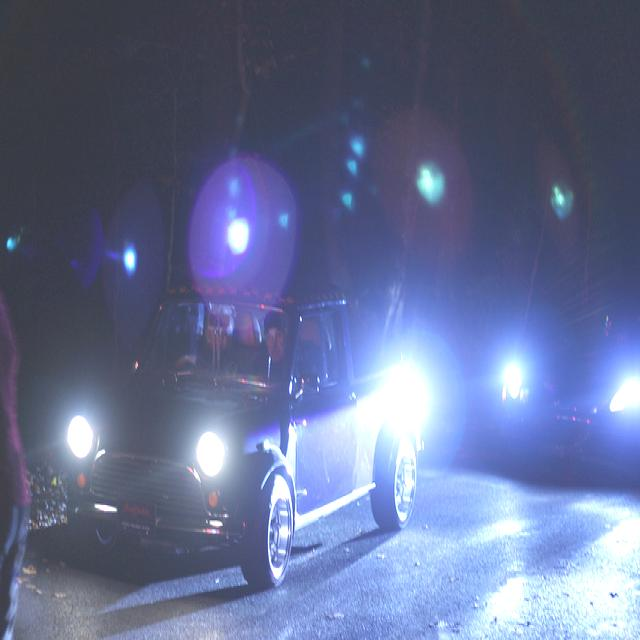Car: (58, 290, 416, 584)
